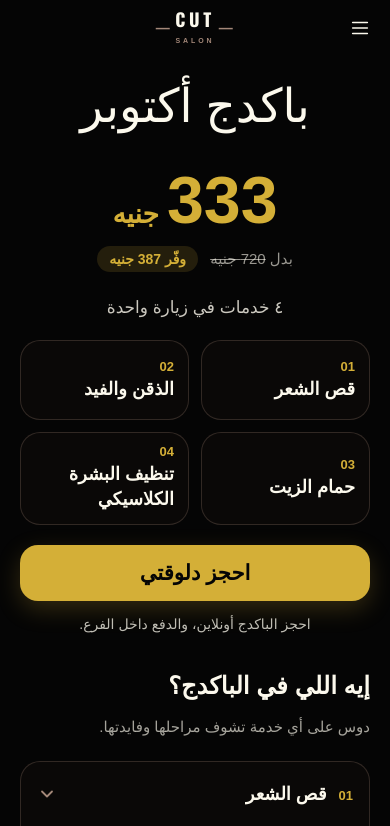
October package simple page › has a top header with a home logo and a hamburger that opens the site menu
The width and height of the screenshot is (390, 826).
Click the button named "فتح القائمة".
click(360, 28)  # box [338, 6, 382, 50]
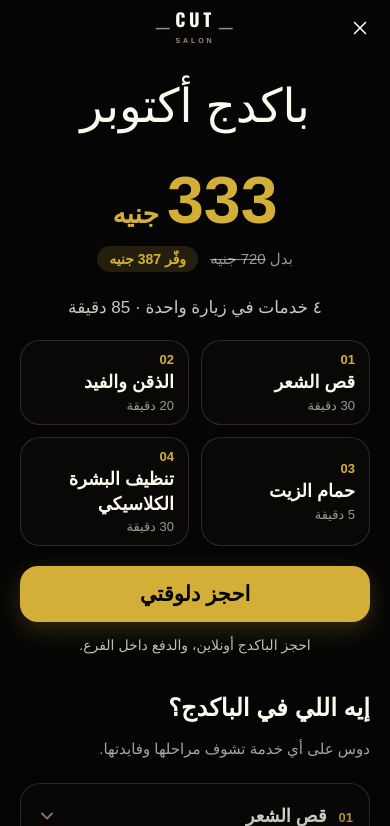
Now the button named "فتح القائمة" is expanded, box [338, 6, 382, 50]
Press Escape
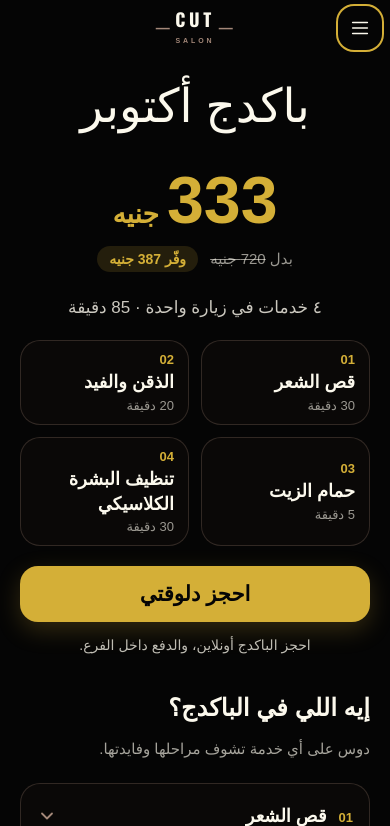
Now the button named "فتح القائمة" is collapsed, box [338, 6, 382, 50]
